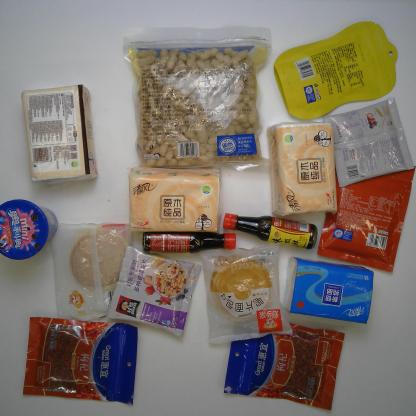Dessert: (51, 219, 136, 328), (199, 252, 289, 344), (0, 197, 58, 265)
Dried Food: (122, 24, 268, 170)
Dried Fruit: (274, 18, 398, 121), (222, 323, 348, 410), (20, 315, 138, 405), (318, 166, 414, 273)
Instant Drink: (105, 245, 202, 339), (326, 95, 414, 184)
Seasoner: (221, 211, 317, 250), (141, 230, 239, 253)
Tissue: (20, 81, 98, 184), (265, 120, 341, 219), (124, 166, 222, 235), (286, 255, 376, 325)
